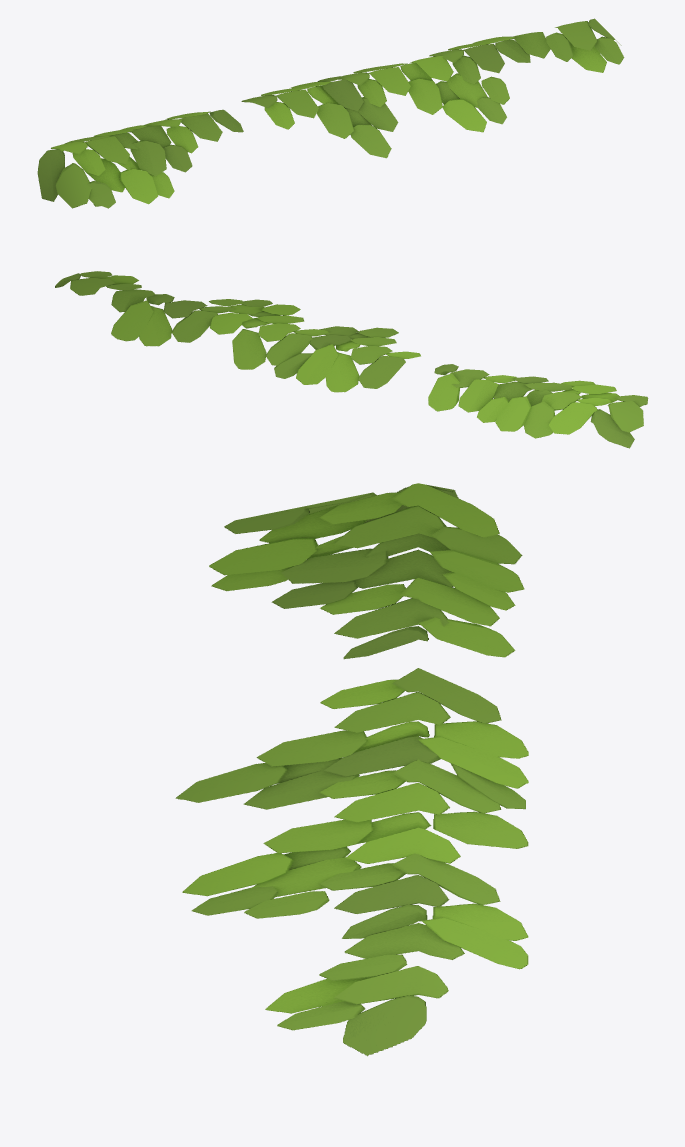
The model's file is Foliage2.glb.
3 views of the same model, one above another, from view 1: azimuth 30°, elevation 25°; view 2: azimuth 150°, elevation 25°; view 3: azimuth 270°, elevation 25° (orthographic). The views are drawn at different scales.
Visible parts, largest first — view 1: Plane_001; view 2: Plane_001; view 3: Plane_001.
Boxes of the visible parts, left/top/right/bottom form: Plane_001: left=37, top=18, right=624, bottom=208; Plane_001: left=55, top=271, right=648, bottom=448; Plane_001: left=175, top=483, right=528, bottom=1056.
Bounding box in the file's own units: 3.11 × 0.2424 × 0.8366.
1 material, 1 textured.
